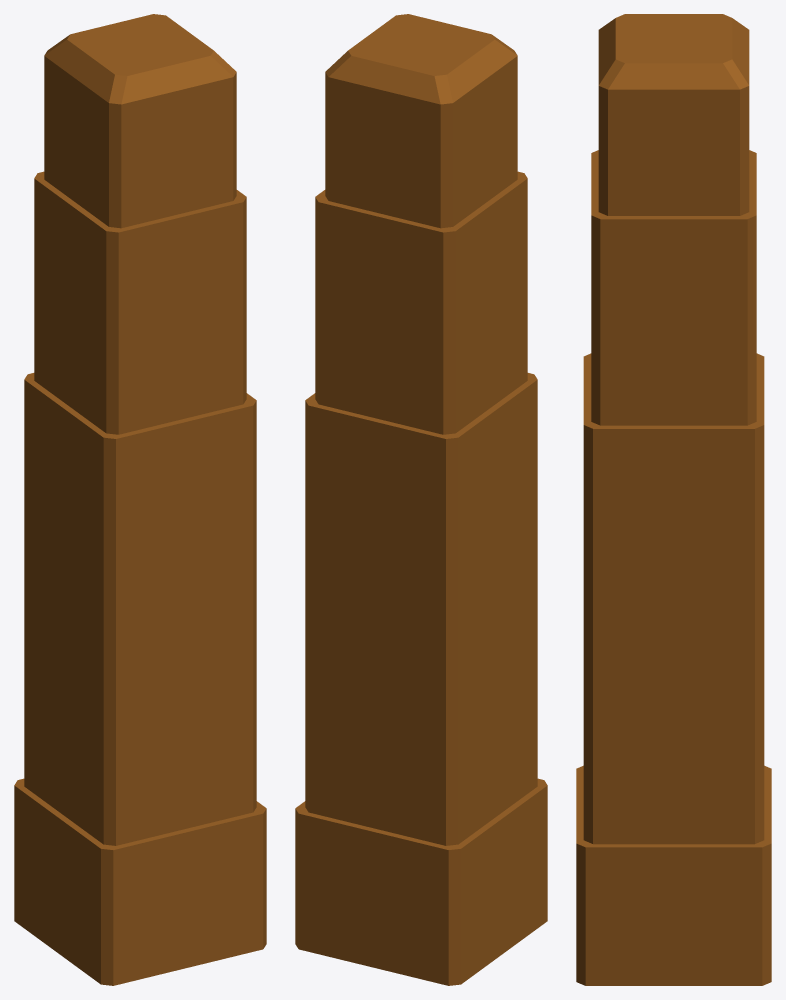
The model's file is tour12.FBX.
The picture shows the model from 3 angles, left to right: view 1: azimuth 30°, elevation 25°; view 2: azimuth 150°, elevation 25°; view 3: azimuth 270°, elevation 25°; orthographic projection. The views are drawn at different scales.
Visible parts, largest first — view 1: Tour12; view 2: Tour12; view 3: Tour12.
Part boxes in pixels (x1,y1,x2,y2): Tour12: (14, 14, 266, 985); Tour12: (295, 14, 547, 985); Tour12: (576, 14, 771, 985).
Size of the model in its own units: 315 by 1612 by 315.
